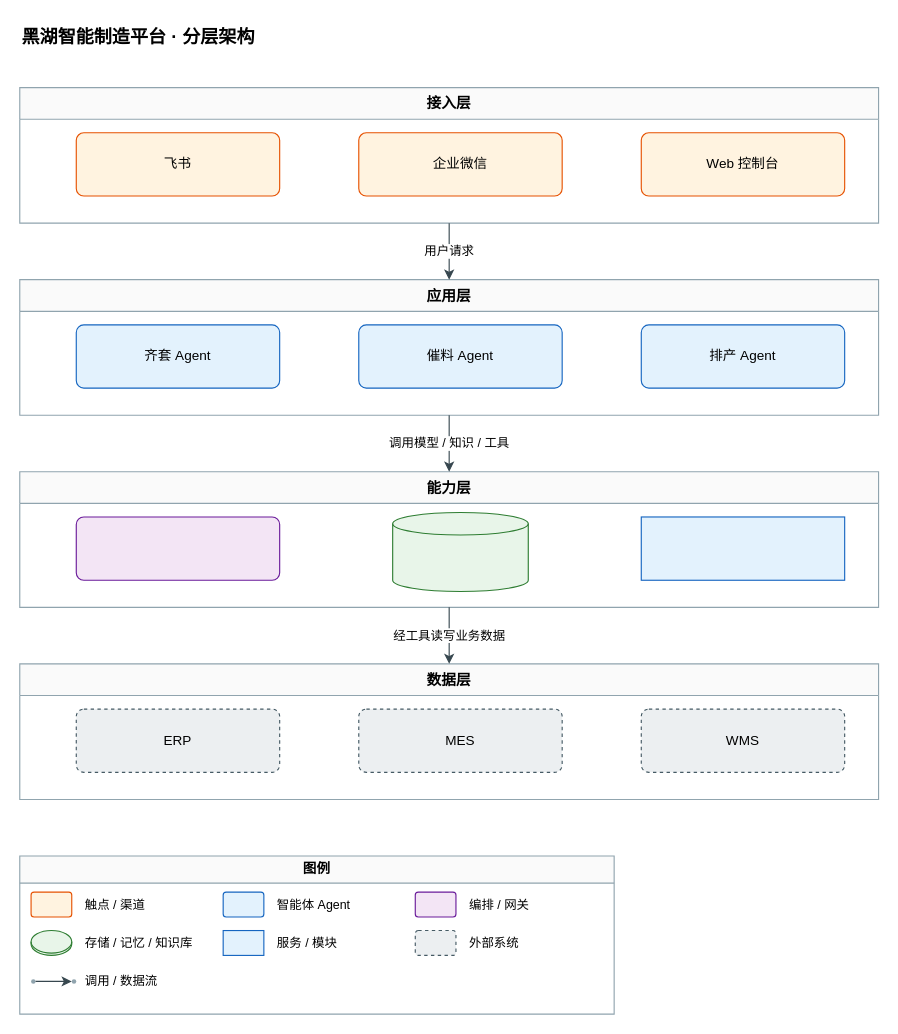
This 898x1034 diagram has some shape labels left out. Here are the shapes that lost their labels. From the top down, the centre of each, then its label:
(177,548): LLM 网关
(460,551): 知识库
(742,548): 工具注册中心
